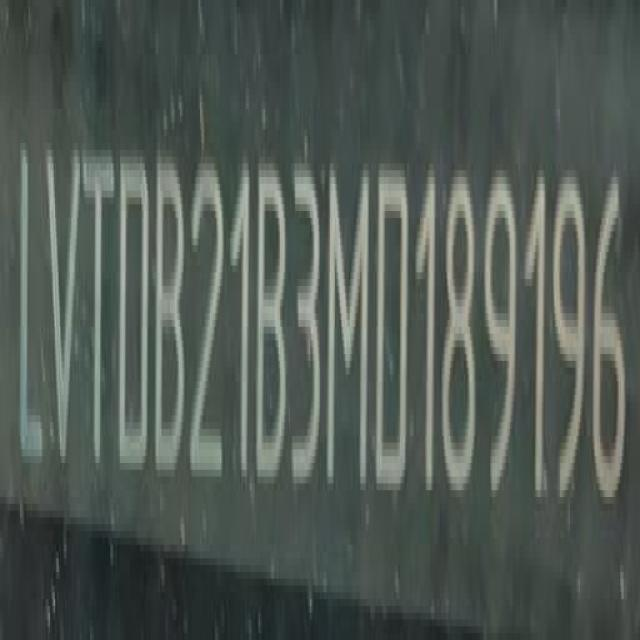1: (524, 173, 548, 515), (230, 159, 253, 494), (417, 161, 437, 503)
2: (193, 158, 230, 494)
3: (295, 155, 324, 502)
6: (593, 171, 630, 517)
8: (443, 166, 480, 505)
9: (484, 171, 521, 514), (552, 174, 589, 514)
B: (256, 154, 291, 493), (157, 161, 190, 485)
D: (378, 153, 417, 501), (116, 151, 154, 482)
L: (15, 142, 46, 479)
M: (327, 156, 373, 502)
T: (84, 147, 115, 480)
V: (42, 144, 82, 482)
